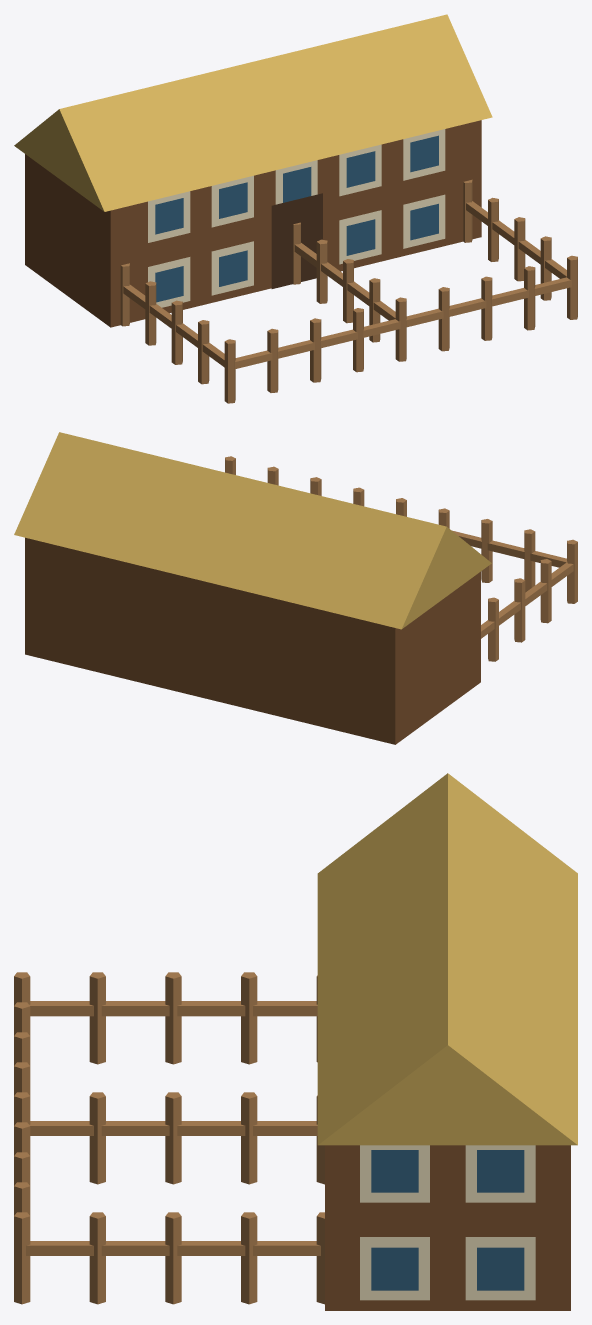
The model's file is building_stable.fbx.
3 views of the same model, one above another, from view 1: azimuth 30°, elevation 25°; view 2: azimuth 150°, elevation 25°; view 3: azimuth 270°, elevation 25° (orthographic). The views are drawn at different scales.
Parts seen in each view (by area): view 1: building_stable; view 2: building_stable; view 3: building_stable.
Part boxes in pixels (x1=…): building_stable: x1=14, y1=14, x2=577, y2=403; building_stable: x1=14, y1=432, x2=577, y2=744; building_stable: x1=14, y1=773, x2=577, y2=1310.
Bounding box in the file's own units: 68 × 31.7 × 59.61.
